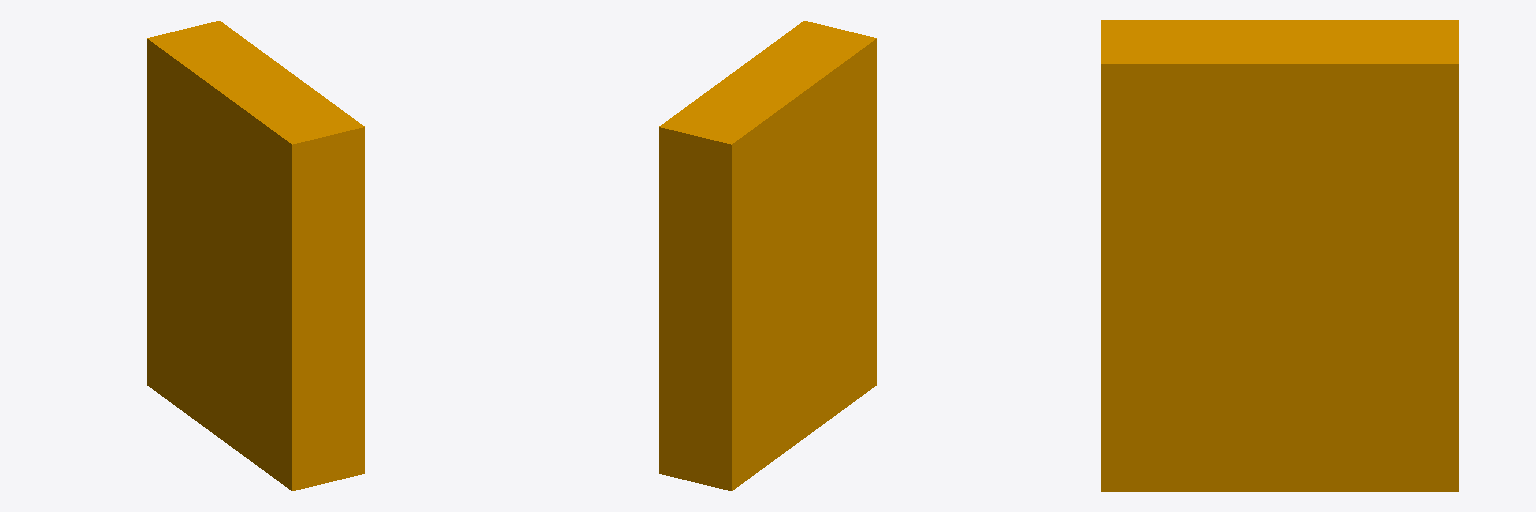
The robot description file, URDF, robot "corn_flakes_small_model":
<robot name="corn_flakes_small_model">
  <link name="corn_flakes_small">
    <inertial>
      <mass value="0.250000" />
      <origin xyz="0.000000 0.000000 0.125000"/>
      <inertia ixx="0.002055" ixy="0.000000" ixz="0.000000" iyy="0.001365" iyz="0.000000" izz="0.000815" />
    </inertial>
    <visual>
      <geometry>
        <mesh filename="package://manipulation_objects/meshes/corn_flakes_small.stl" />
      </geometry>
    </visual>
    <collision>
      <geometry>
        <mesh filename="package://manipulation_objects/meshes/corn_flakes_small.stl" />
      </geometry>
    </collision>
  </link>
  <gazebo reference="corn_flakes_small">
    <material>Gazebo/Grey</material>
  </gazebo>
</robot>

--- Render facts (derived) ---
Views: 3 orthographic renders of the robot side by side, from view 1: azimuth 30°, elevation 25°; view 2: azimuth 150°, elevation 25°; view 3: azimuth 270°, elevation 25°.
Model corn_flakes_small_model with 1 links and 0 joints (none), rooted at corn_flakes_small, posed every joint at zero.
Links seen in each view (by area): view 1: corn_flakes_small; view 2: corn_flakes_small; view 3: corn_flakes_small.
Boxes of the visible links, x1,y1,x2,y2 form: corn_flakes_small: (147,21,364,490); corn_flakes_small: (659,21,876,490); corn_flakes_small: (1101,20,1458,491).
Bounding box of the posed robot: 0.055 × 0.19 × 0.25 m (x, y, z).
Meshes: 1 distinct files referenced, 1 mesh visuals loaded (1 binary STL).
